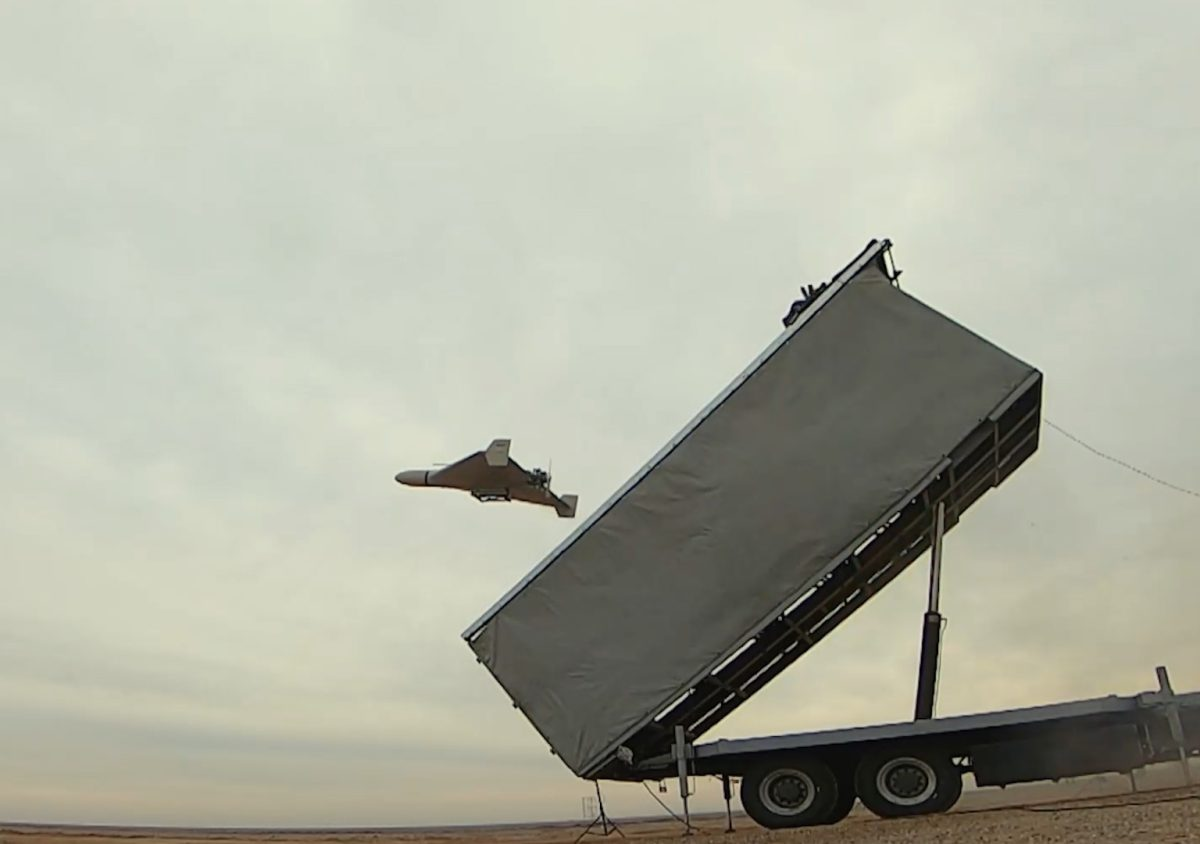shahed: (394, 440, 577, 518)
